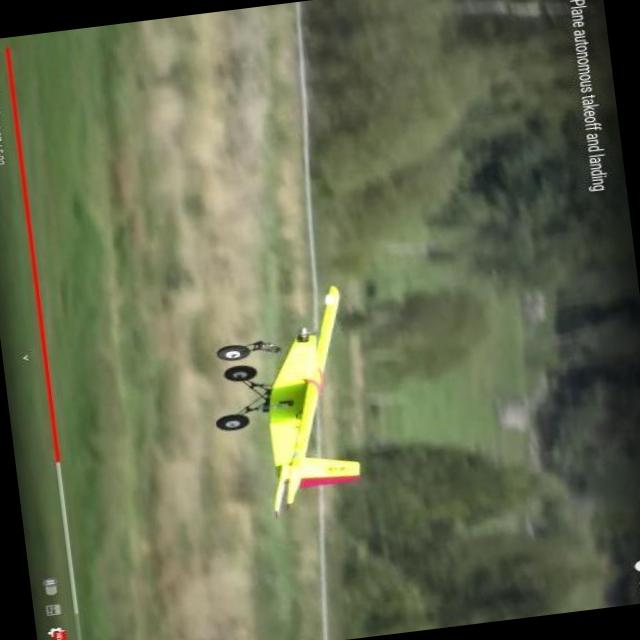UAV: (198, 276, 381, 496)
